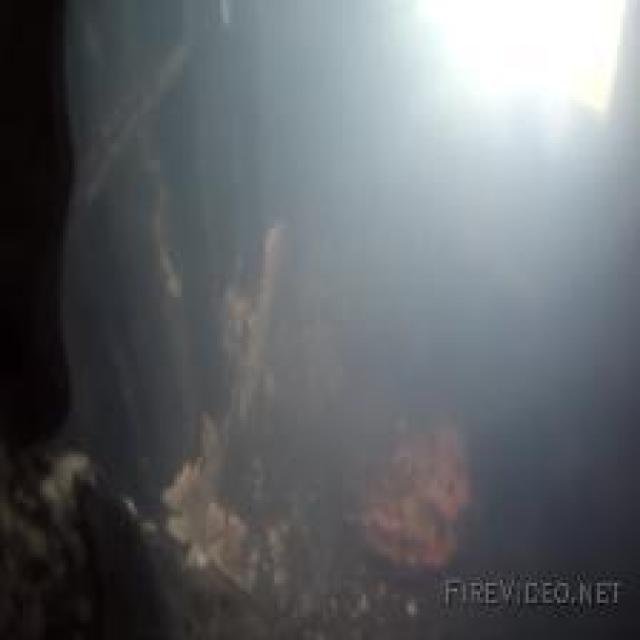other: (402, 0, 618, 117)
